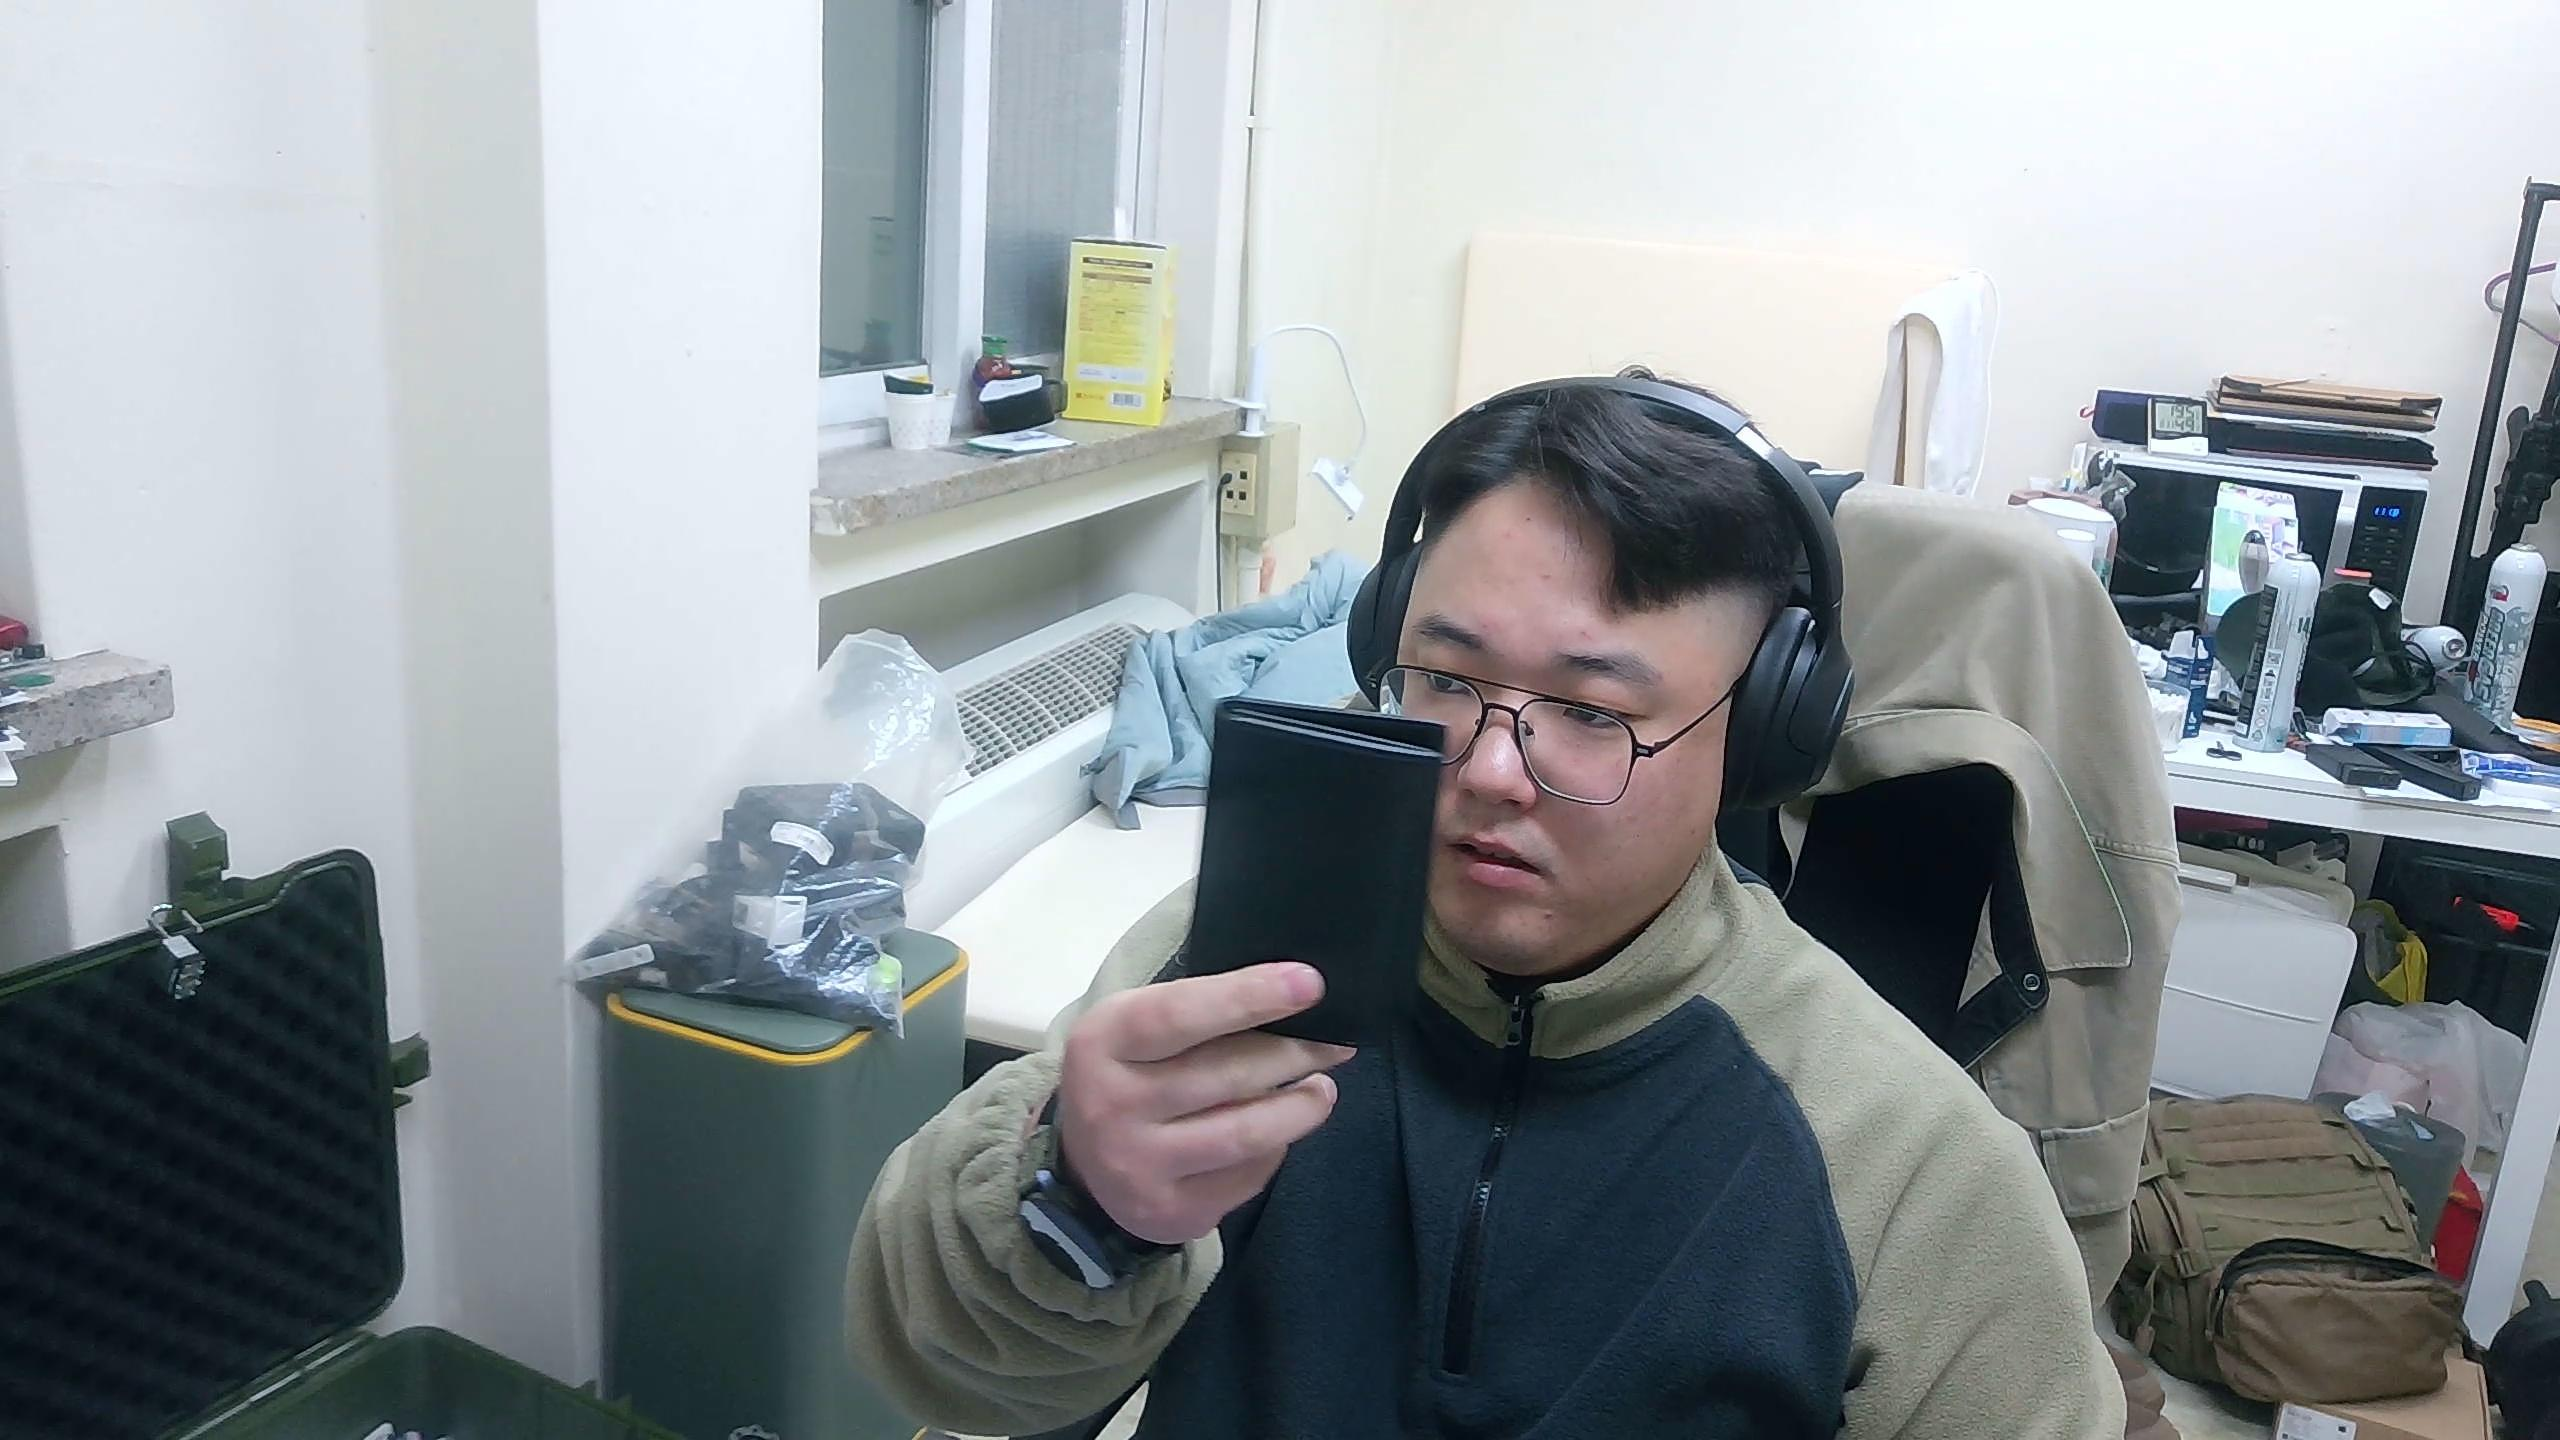Wallet: (1155, 693, 1452, 1053)
